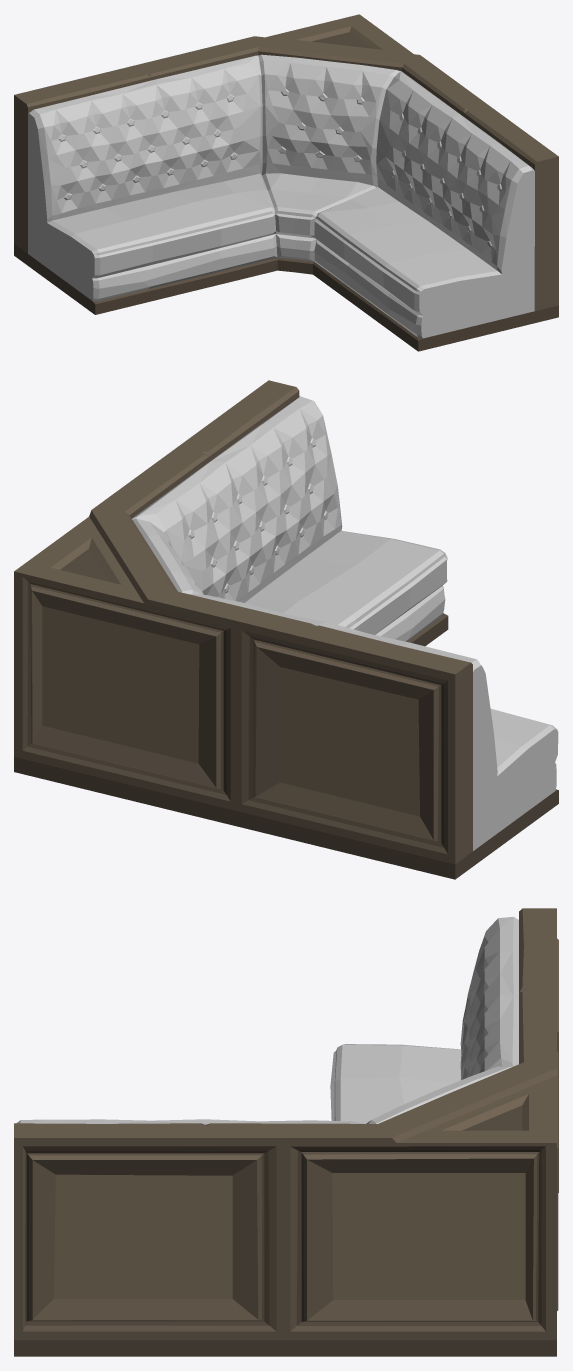
The model's file is SM_Prop_Sofa_01_Corner_03.fbx.
3 views of the same model, one above another, from view 1: azimuth 30°, elevation 25°; view 2: azimuth 150°, elevation 25°; view 3: azimuth 270°, elevation 25° (orthographic). The views are drawn at different scales.
Parts seen in each view (by area): view 1: SM_Prop_Sofa_01_Corner_03; view 2: SM_Prop_Sofa_01_Corner_03; view 3: SM_Prop_Sofa_01_Corner_03.
Boxes of the visible parts, x1,y1,x2,y2 form: SM_Prop_Sofa_01_Corner_03: (14,14,558,351); SM_Prop_Sofa_01_Corner_03: (14,380,558,879); SM_Prop_Sofa_01_Corner_03: (14,908,558,1356).
Bounding box in the file's own units: 251 × 111 × 251.
